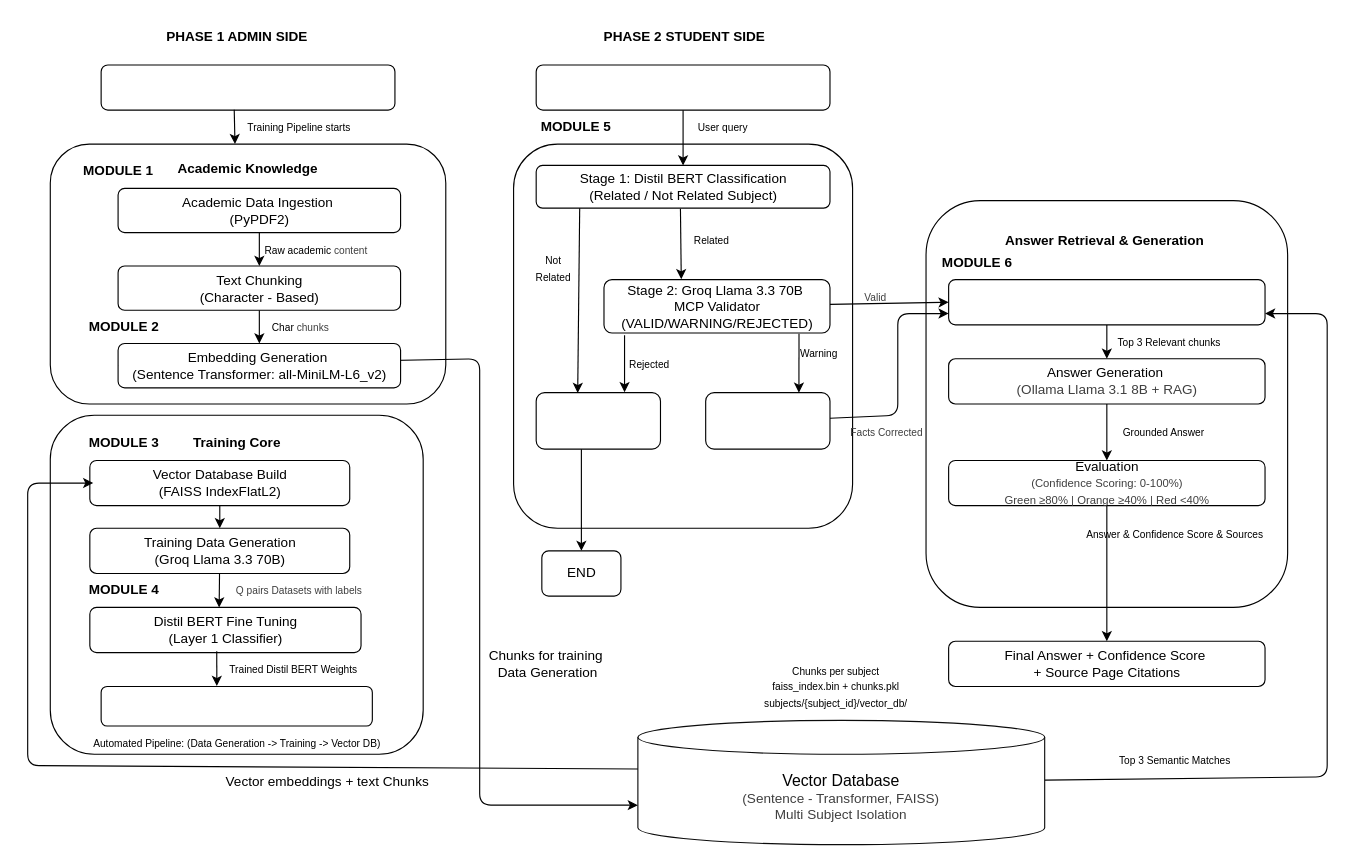
Some shapes in this 1356 by 864 pixel diagram are drawn without their labels. The box of each missing label's shape, as (x1, y1, x2, y2) in pixels:
Admin Input (pdf + syllabus upload): (100, 64, 395, 110)
Model Evaluation (Accuracy, Precision, Recall, F1): (100, 685, 372, 726)
Question Processing: (512, 143, 853, 528)
Reject Question (Out of syllabus / invalid): (535, 392, 660, 449)
Stage 3 : Context Retrieval (FAISS Top - 3 Chunks, L2 Distance): (948, 279, 1265, 325)
User Question Input: (535, 64, 830, 110)
Warning Question (Wrong facts): (705, 392, 830, 449)
